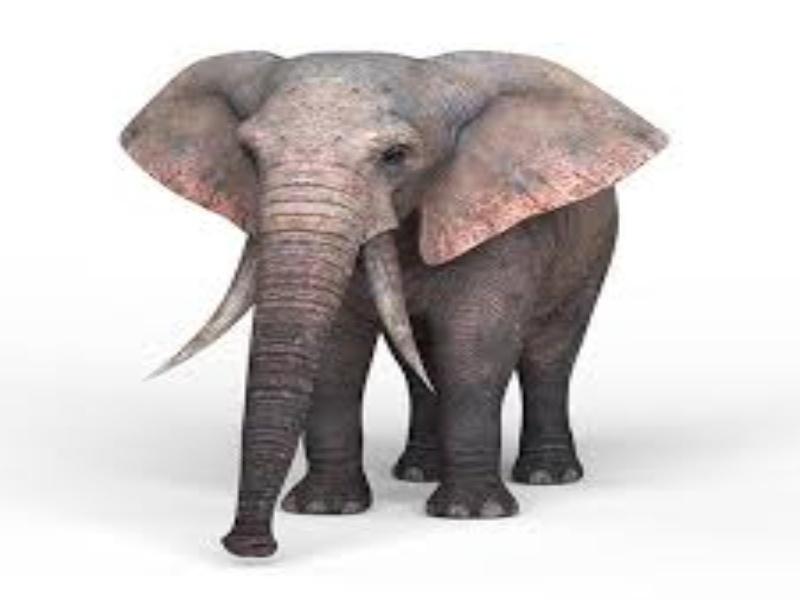elephant: (93, 19, 676, 577)
